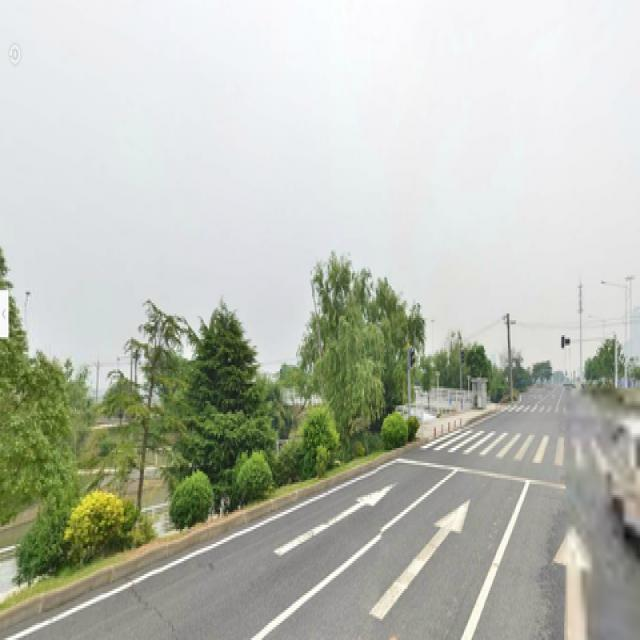plat: (316, 271, 372, 446)
